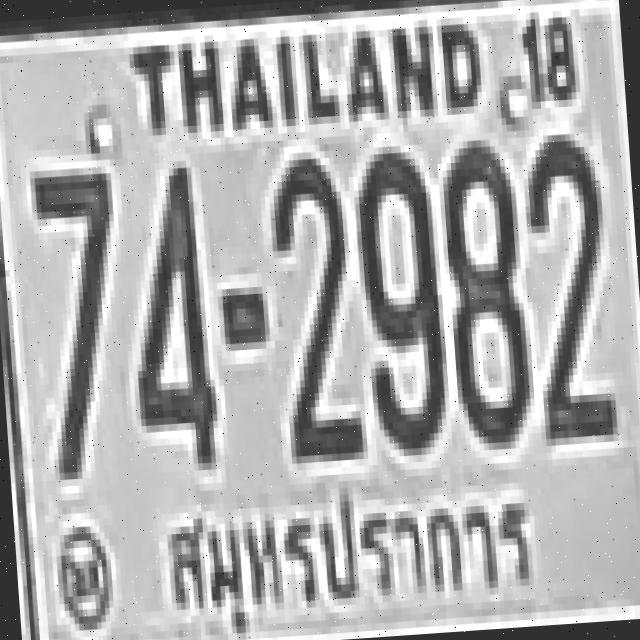2: (518, 128, 622, 440), (266, 153, 358, 460)
4: (119, 159, 223, 474)
7: (30, 166, 126, 474)
8: (436, 138, 534, 449)
9: (351, 144, 453, 456)
SamutPrakan: (140, 462, 553, 640)
